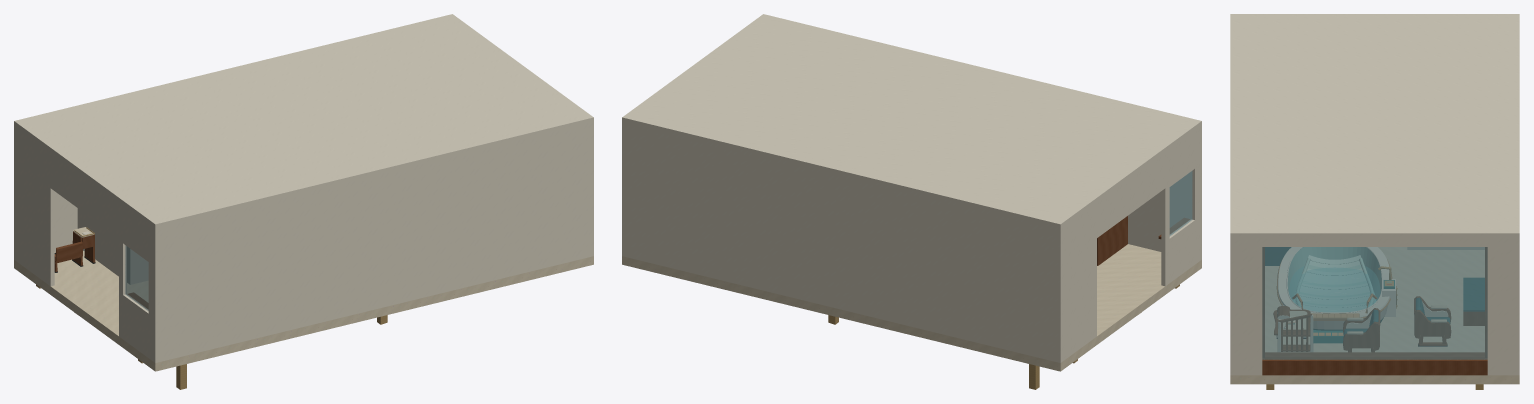
Rendered from QuietGroveBank_499_r001.glb.
3 views of the same model, side by side, from view 1: azimuth 30°, elevation 25°; view 2: azimuth 150°, elevation 25°; view 3: azimuth 270°, elevation 25° (orthographic). The views are drawn at different scales.
Parts seen in each view (by area): view 1: QG499_Ceiling, QG499_NorthSide, QG499_RoomFloor, QG499_EntryShoulderSouth, QG499_EntryHeader, QG499_StreetWindowLower, QG499_WashEntrySide, QG499_SouthSide, QG499_StreetWindowUpper, QG499_ScreenedStreetGlass; view 2: QG499_Ceiling, QG499_SouthSide, QG499_RoomFloor, QG499_EntryShoulderSouth, QG499_NorthSide, QG499_EntryHeader, QG499_StreetWindowLower, QG499_StreetWindowUpper, QG499_ScreenedStreetGlass, QG499_EntryPrivacyDogleg; view 3: QG499_Ceiling, QGB499_PrivateCourtGlass, QG499_RoomFloor, QGB499_CourtNorthPier, QGB499_CourtSouthPier, QGB499_CourtSill, QG499_QG499_ReservedRestSupport_01__Hollow continuous basin , QG499_QG499_ReservedRestSupport_01__Contoured broad immersed, QGB499_CourtHeader, QGB499_DeepReveal_0.34, QG499_PositiveDryTransferPad, QG499_NorthSide (+9 smaller).
Part boxes in pixels (x1,y1,x2,y2): QG499_Ceiling: [14, 14, 593, 229]; QG499_NorthSide: [153, 123, 593, 362]; QG499_RoomFloor: [14, 250, 593, 371]; QG499_EntryShoulderSouth: [16, 128, 54, 286]; QG499_EntryHeader: [49, 153, 119, 238]; QG499_StreetWindowLower: [119, 292, 152, 360]; QG499_WashEntrySide: [77, 208, 133, 284]; QG499_SouthSide: [14, 127, 77, 260]; QG499_StreetWindowUpper: [119, 204, 152, 264]; QG499_ScreenedStreetGlass: [125, 245, 148, 310]; QG499_Ceiling: [622, 14, 1201, 229]; QG499_SouthSide: [622, 123, 1062, 362]; QG499_RoomFloor: [622, 244, 1201, 371]; QG499_EntryShoulderSouth: [1063, 203, 1096, 360]; QG499_NorthSide: [1128, 127, 1201, 260]; QG499_EntryHeader: [1096, 154, 1165, 238]; QG499_StreetWindowLower: [1161, 217, 1199, 286]; QG499_StreetWindowUpper: [1163, 128, 1199, 190]; QG499_ScreenedStreetGlass: [1169, 171, 1192, 235]; QG499_EntryPrivacyDogleg: [1097, 216, 1127, 265]; QG499_Ceiling: [1230, 14, 1519, 238]; QGB499_PrivateCourtGlass: [1262, 247, 1487, 359]; QG499_RoomFloor: [1230, 247, 1519, 384]; QGB499_CourtNorthPier: [1487, 239, 1519, 375]; QGB499_CourtSouthPier: [1230, 239, 1262, 375]; QGB499_CourtSill: [1262, 358, 1487, 375]; QG499_QG499_ReservedRestSupport_01__Hollow continuous basin : [1278, 247, 1389, 330]; QG499_QG499_ReservedRestSupport_01__Contoured broad immersed: [1295, 255, 1373, 311]; QGB499_CourtHeader: [1262, 239, 1487, 246]; QGB499_DeepReveal_0.34: [1265, 352, 1484, 357]; QG499_PositiveDryTransferPad: [1463, 278, 1484, 311]; QG499_NorthSide: [1230, 239, 1234, 375].
Size of the model in its own units: 12.9 by 5.31 by 7.2.
Materials: 67 (49 with a texture image).
